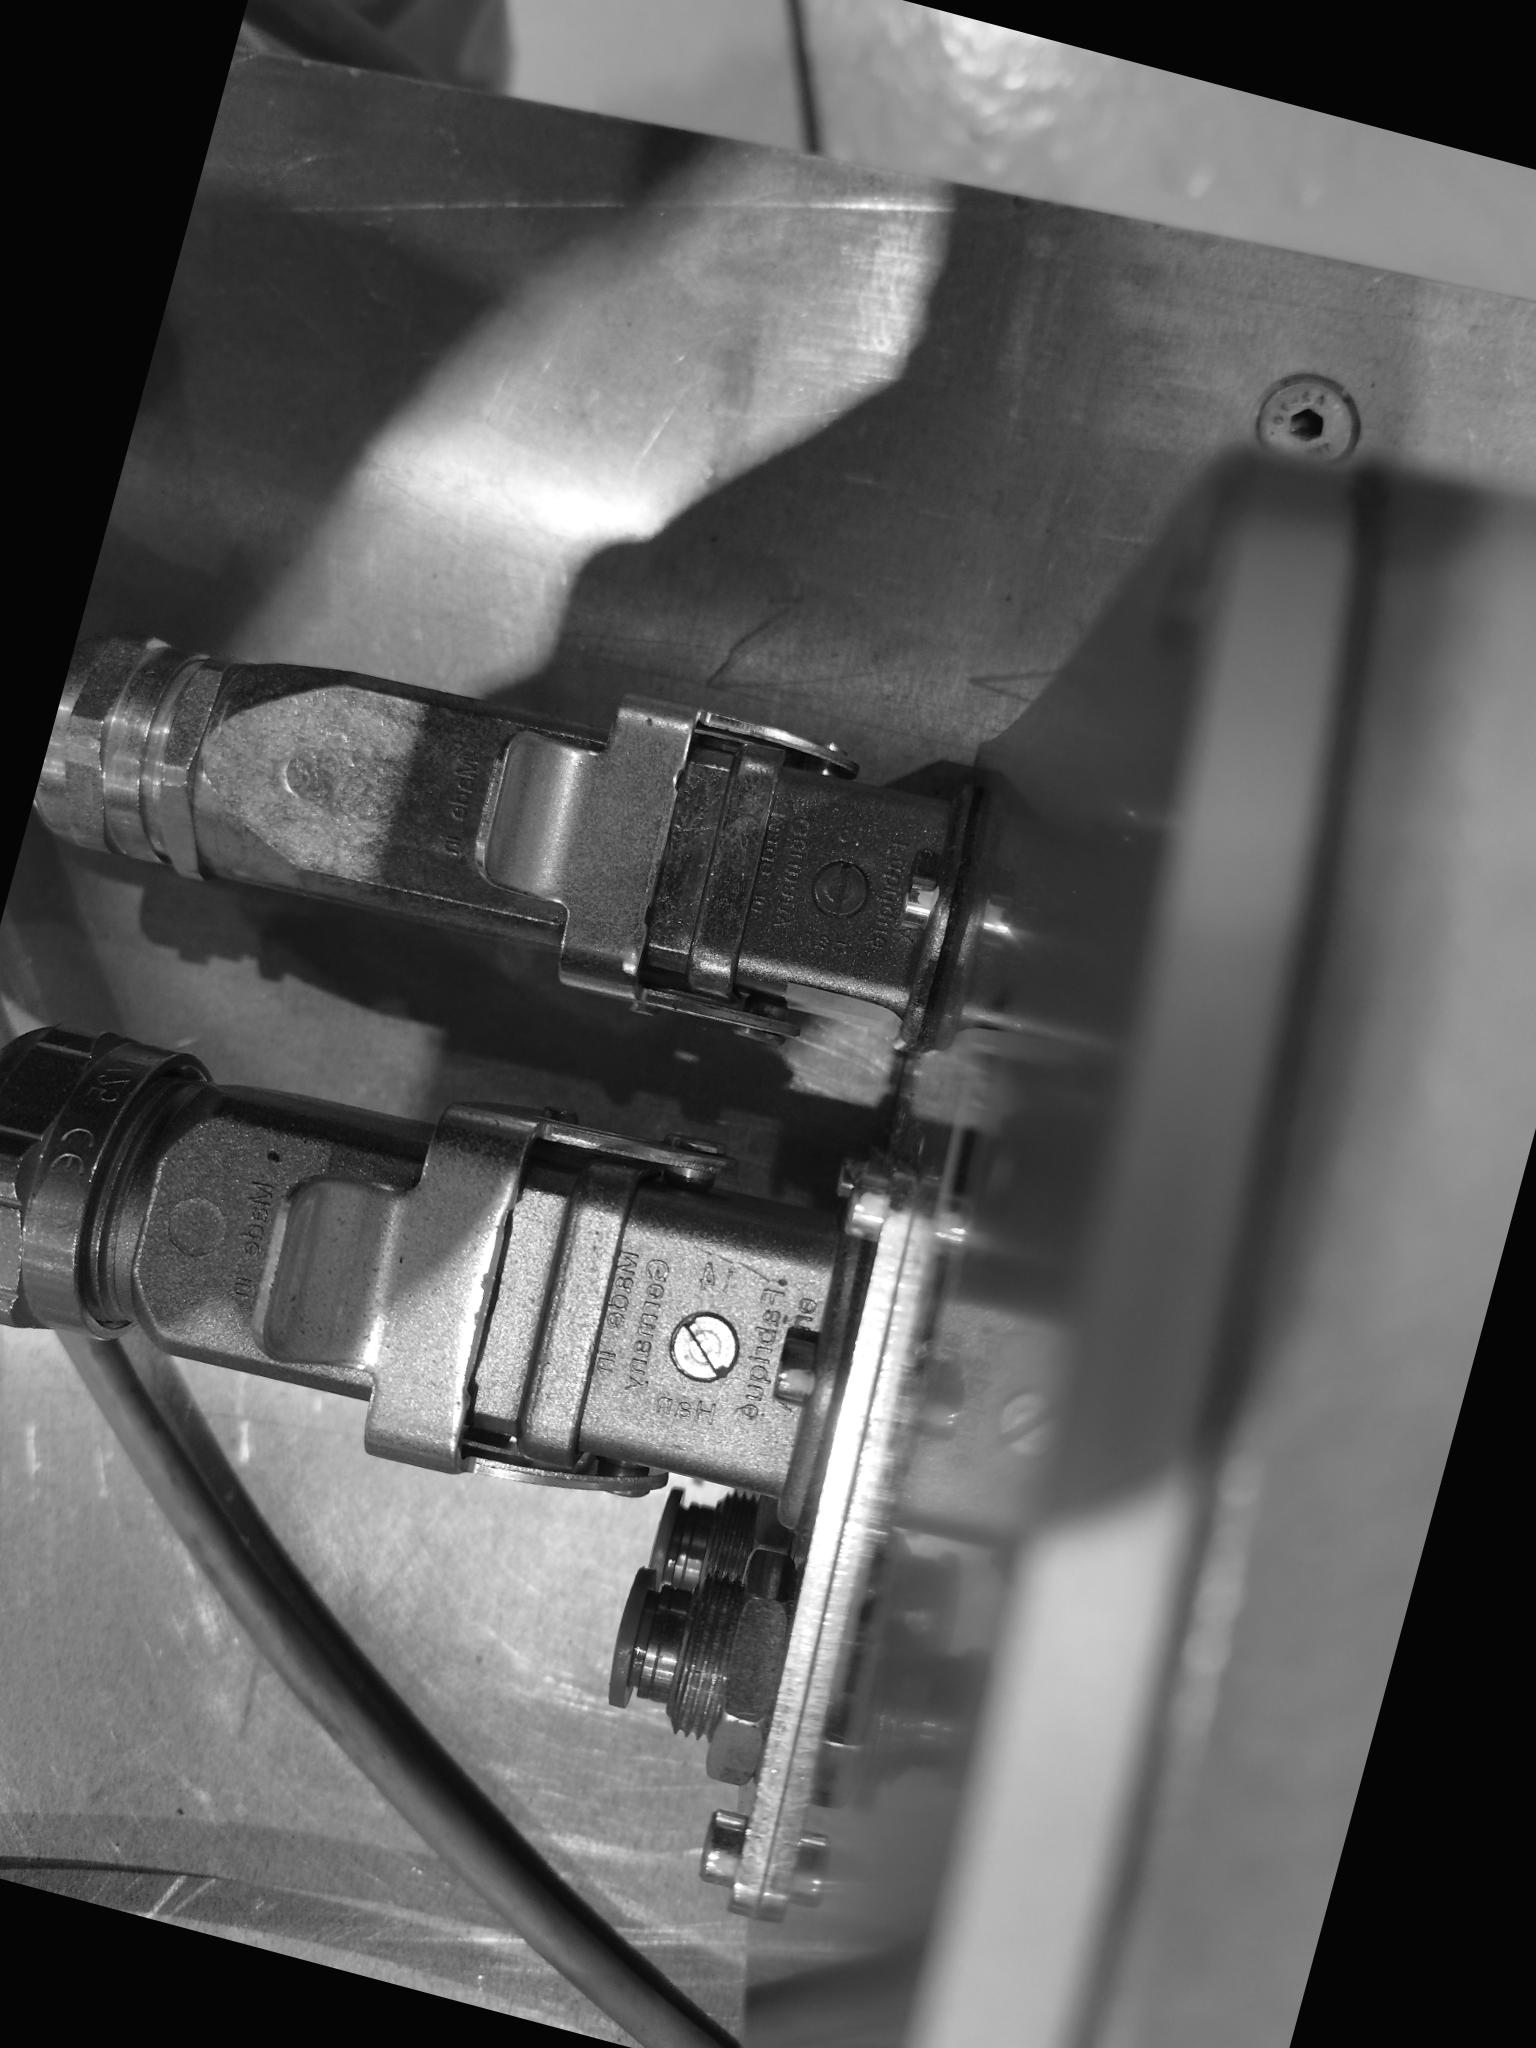screw: (1236, 350, 1379, 495), (655, 1300, 752, 1397), (795, 845, 881, 930)
